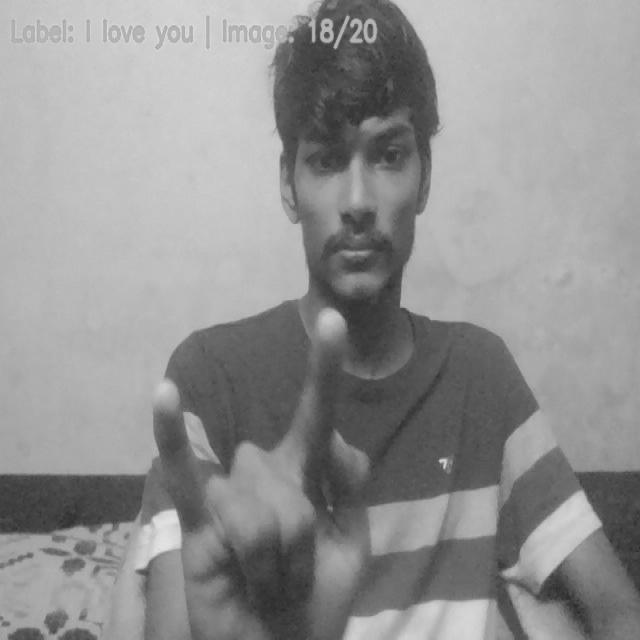I love you: (146, 305, 378, 640)
